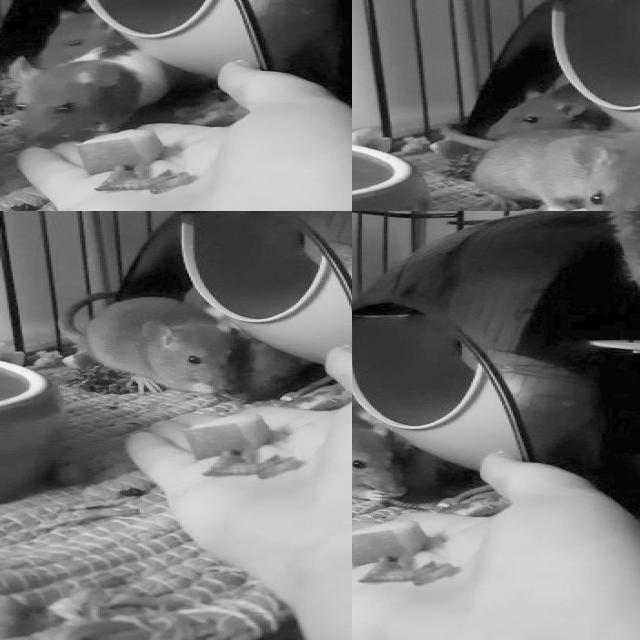rat: (2, 39, 182, 152), (86, 293, 248, 398), (474, 128, 640, 211), (489, 84, 588, 145), (352, 403, 409, 502)
